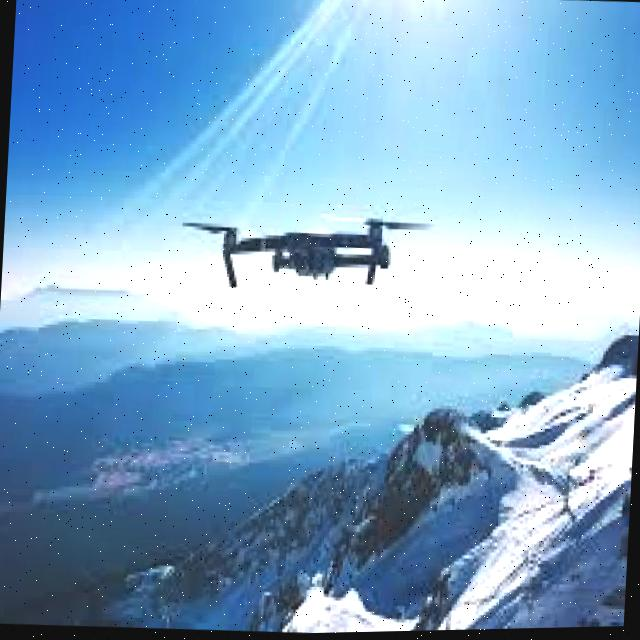drone: (167, 185, 456, 324)
